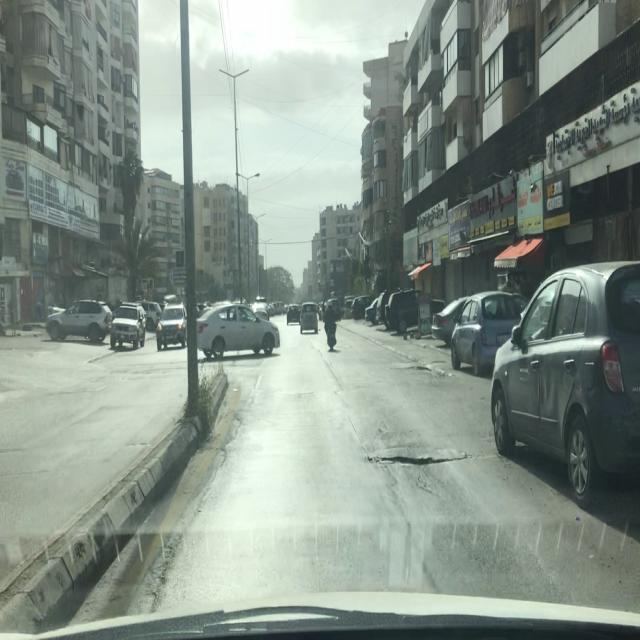Buraco: (365, 451, 473, 469)
